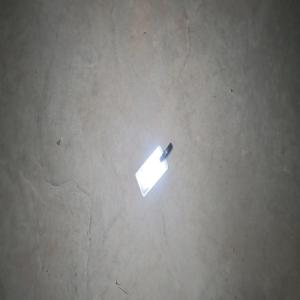LuggageTag: (134, 141, 172, 198)
